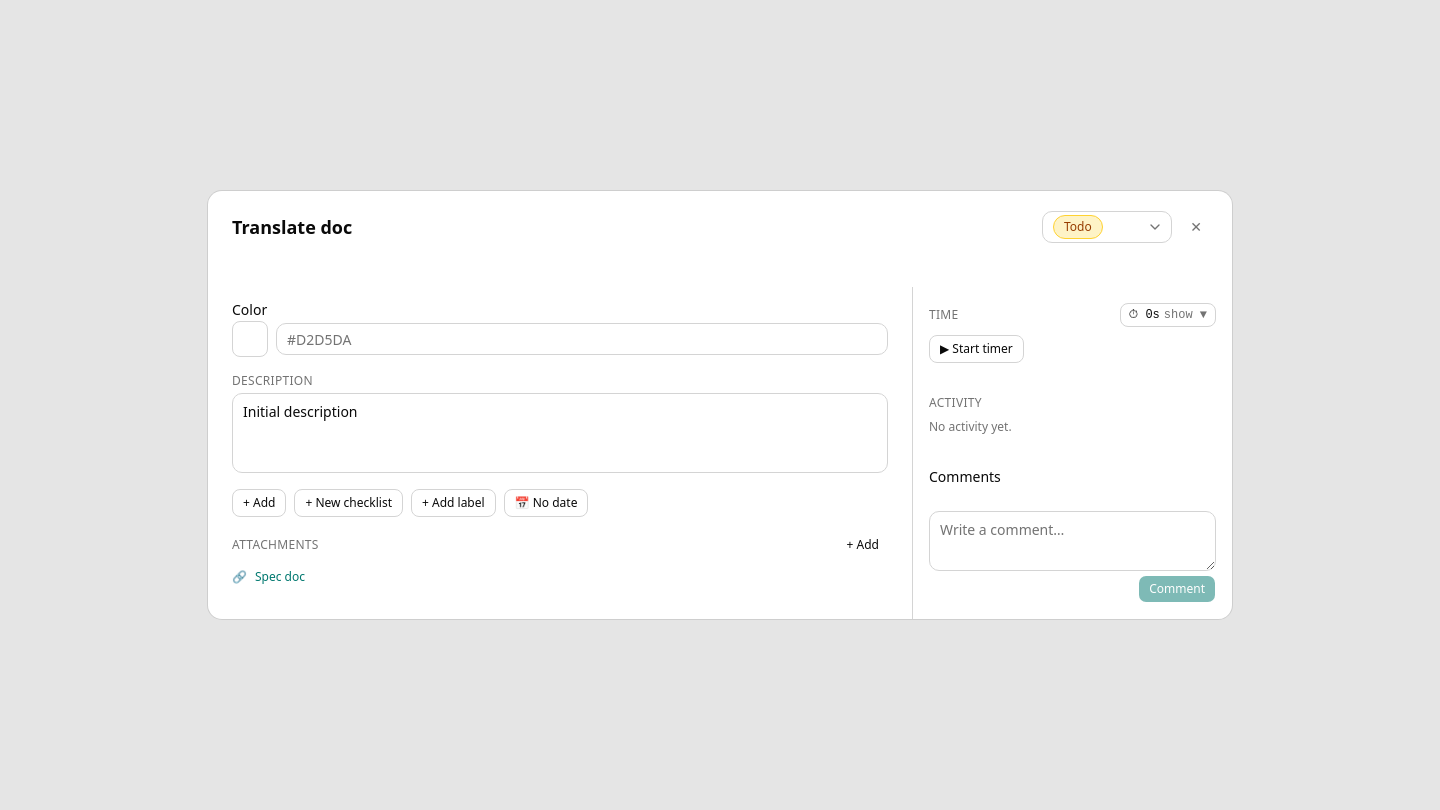
Test: TaskDetailModal › attachment list › clicking '+ Add' in the attachments section opens the attachment modal
Expected: the heading "Translate doc" is shown, [232,213,352,241]
Click the button "+ Add" in the row of "Attachments" at coordinates (863, 545), box [838,533,888,557]
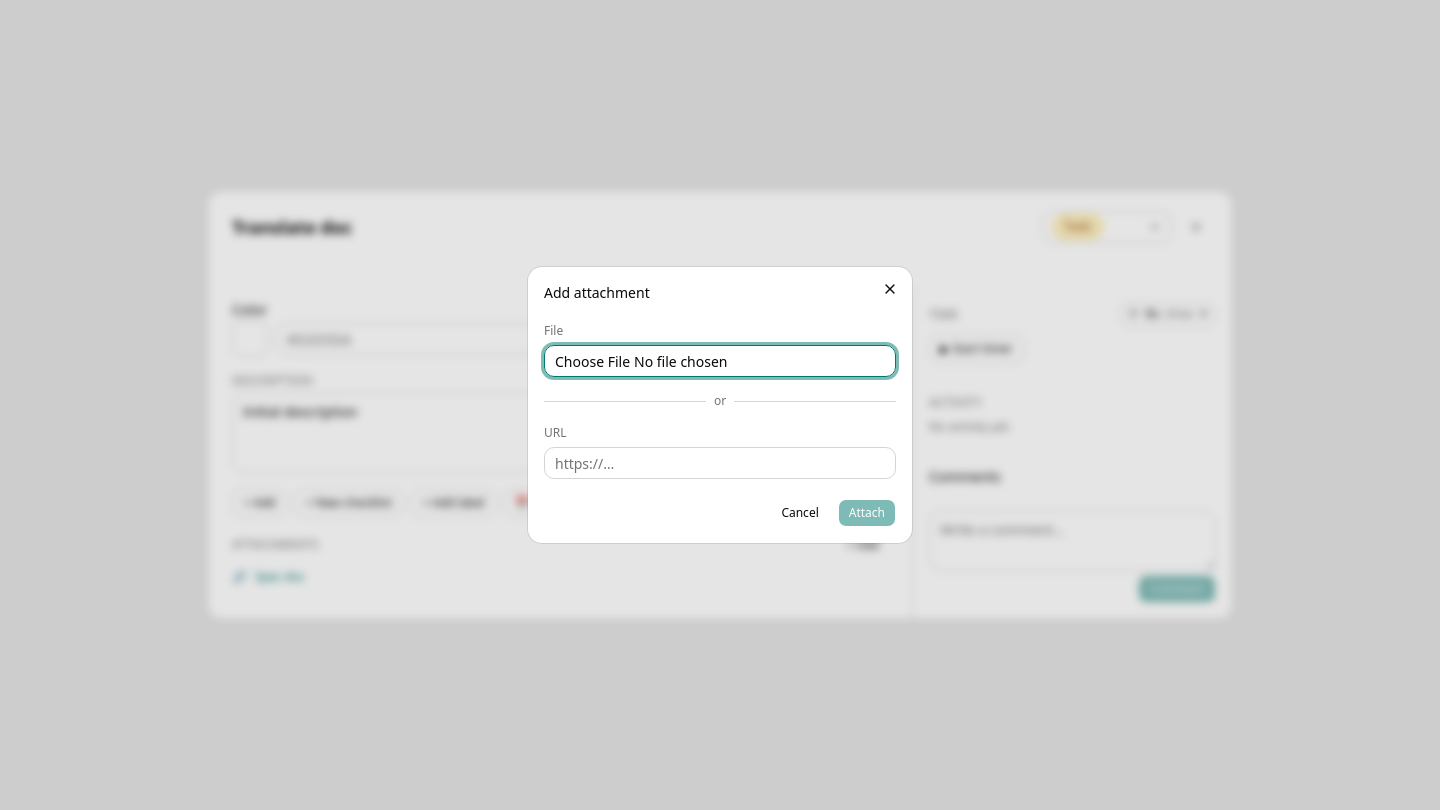
Expected: the heading "Add attachment" is shown, [544,283,650,302]
